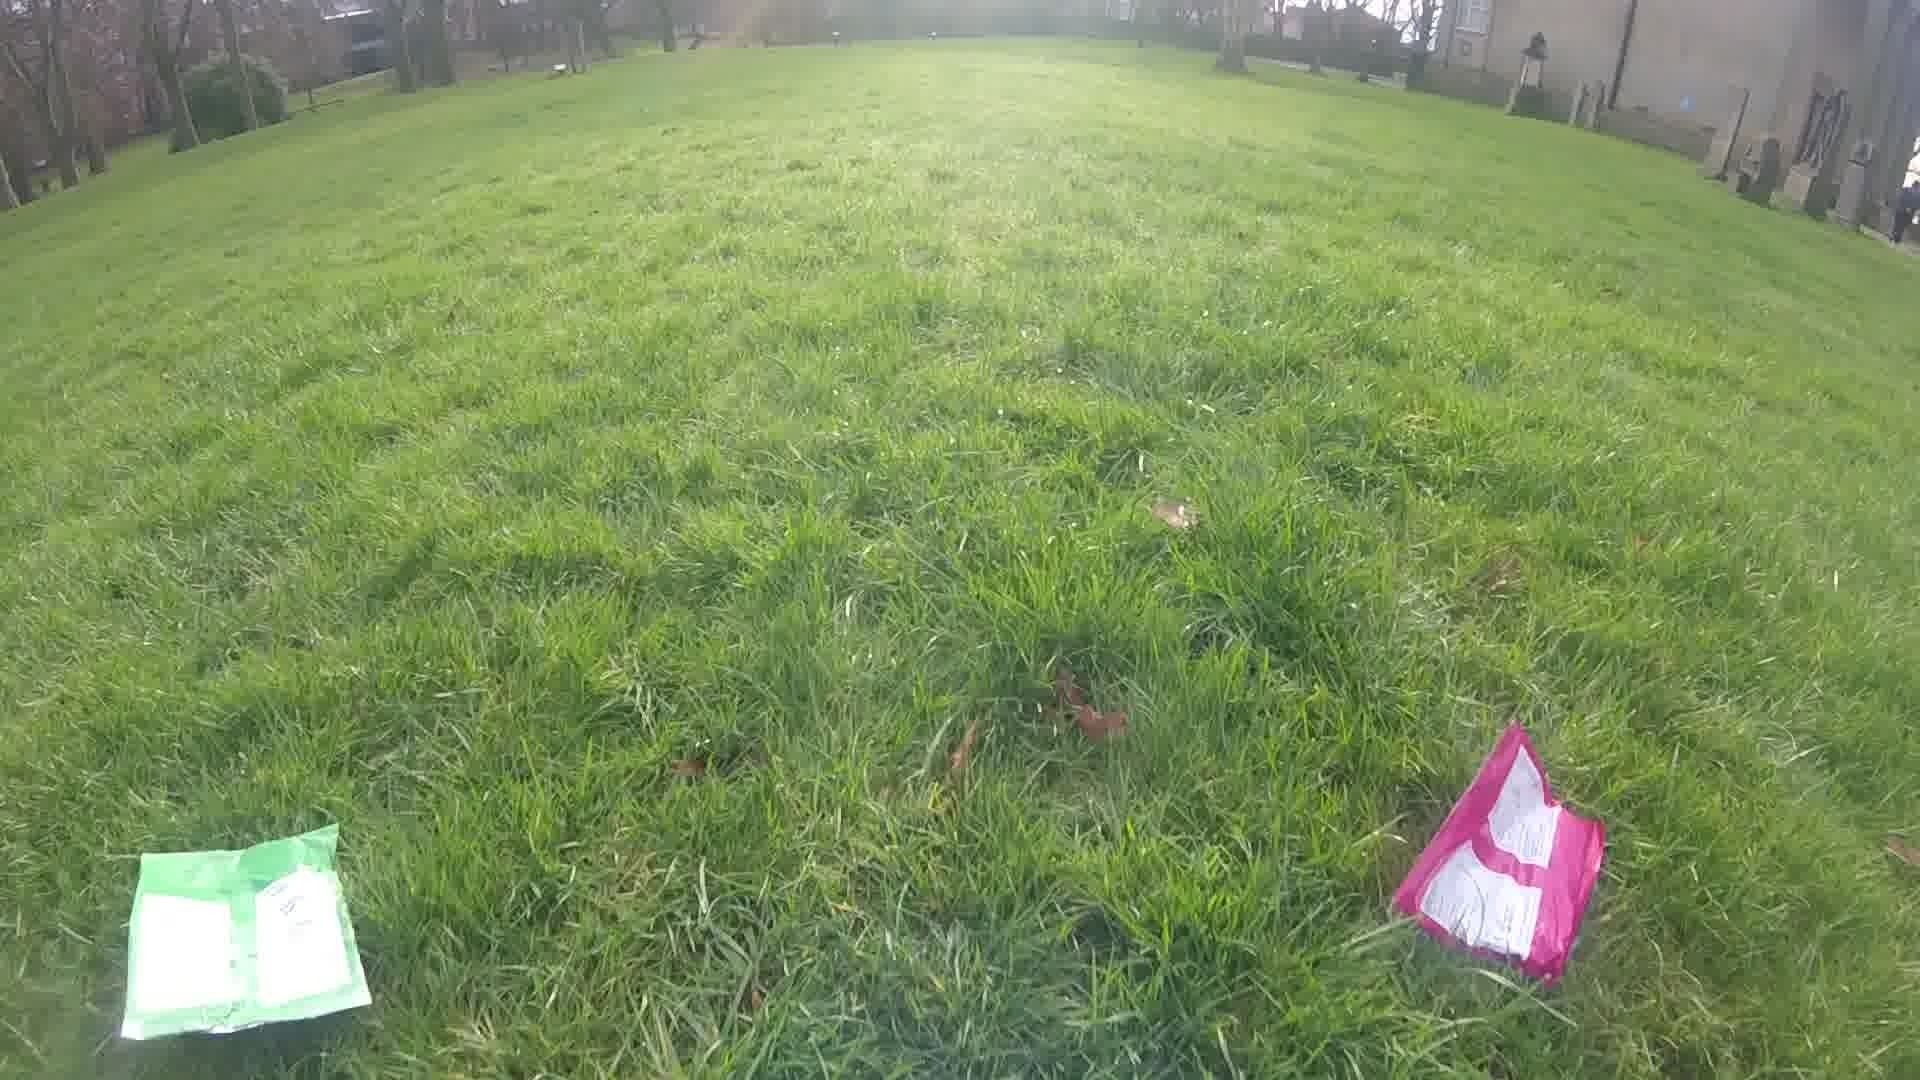litter: (1396, 729, 1598, 992), (125, 825, 367, 1040)
